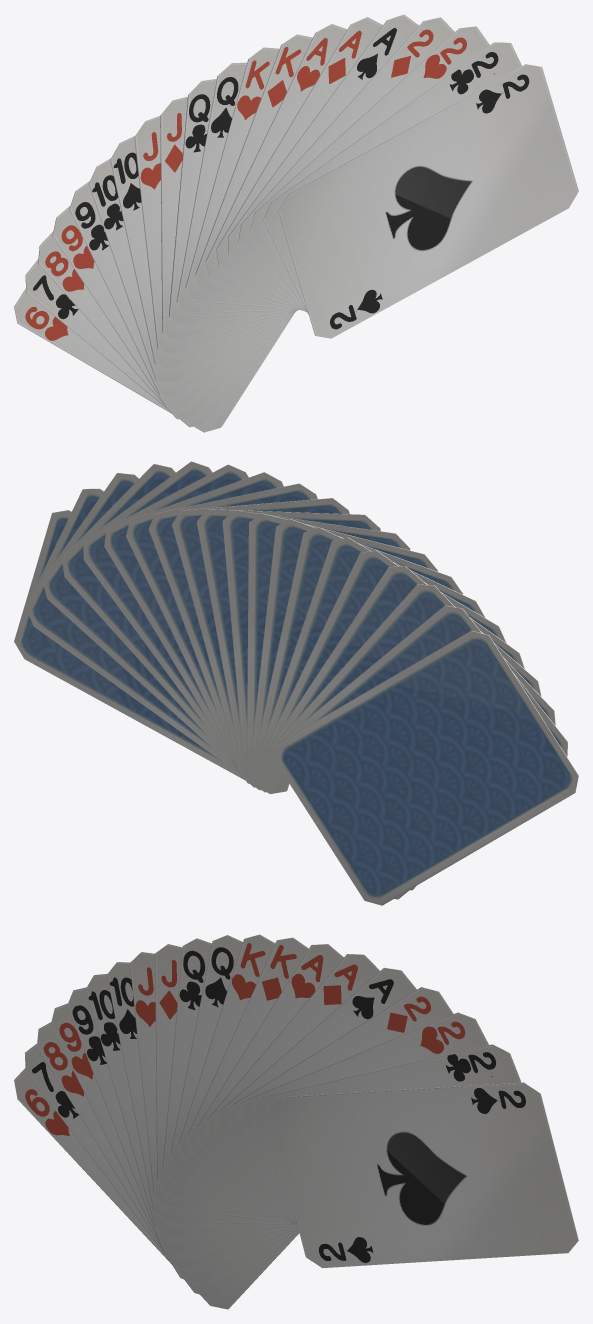
File: pai.FBX
The picture shows the model from 3 angles, top to bottom: view 1: azimuth 30°, elevation 25°; view 2: azimuth 150°, elevation 25°; view 3: azimuth 330°, elevation 25°; orthographic projection. The views are drawn at different scales.
Visible parts, largest first — view 1: c_female_00_zhipai_020, c_female_00_zhipai_021, c_female_00_zhipai_022, c_female_00_zhipai_023, c_female_00_zhipai_024, c_female_00_zhipai_025, c_female_00_zhipai_026, c_female_00_zhipai_028, c_female_00_zhipai_027, c_female_00_zhipai_031, c_female_00_zhipai_030, c_female_00_zhipai_029 (+8 smaller); view 2: c_female_00_zhipai_039, c_female_00_zhipai_020, c_female_00_zhipai_021, c_female_00_zhipai_022, c_female_00_zhipai_023, c_female_00_zhipai_024, c_female_00_zhipai_028, c_female_00_zhipai_026, c_female_00_zhipai_025, c_female_00_zhipai_029, c_female_00_zhipai_027, c_female_00_zhipai_030 (+8 smaller); view 3: c_female_00_zhipai_020, c_female_00_zhipai_021, c_female_00_zhipai_022, c_female_00_zhipai_023, c_female_00_zhipai_024, c_female_00_zhipai_025, c_female_00_zhipai_026, c_female_00_zhipai_027, c_female_00_zhipai_029, c_female_00_zhipai_030, c_female_00_zhipai_031, c_female_00_zhipai_028 (+8 smaller).
Part boxes in pixels (x1=…): c_female_00_zhipai_020: x1=278, y1=64, x2=578, y2=338; c_female_00_zhipai_021: x1=263, y1=42, x2=521, y2=314; c_female_00_zhipai_022: x1=250, y1=26, x2=489, y2=312; c_female_00_zhipai_023: x1=238, y1=17, x2=454, y2=311; c_female_00_zhipai_024: x1=228, y1=14, x2=418, y2=311; c_female_00_zhipai_025: x1=216, y1=17, x2=382, y2=311; c_female_00_zhipai_026: x1=205, y1=24, x2=347, y2=310; c_female_00_zhipai_028: x1=185, y1=47, x2=296, y2=309; c_female_00_zhipai_027: x1=195, y1=34, x2=312, y2=310; c_female_00_zhipai_031: x1=160, y1=96, x2=297, y2=341; c_female_00_zhipai_030: x1=169, y1=78, x2=298, y2=327; c_female_00_zhipai_029: x1=176, y1=62, x2=298, y2=313; c_female_00_zhipai_039: x1=275, y1=630, x2=578, y2=905; c_female_00_zhipai_020: x1=14, y1=510, x2=289, y2=793; c_female_00_zhipai_021: x1=25, y1=488, x2=287, y2=792; c_female_00_zhipai_022: x1=42, y1=472, x2=285, y2=791; c_female_00_zhipai_023: x1=61, y1=463, x2=284, y2=790; c_female_00_zhipai_024: x1=83, y1=461, x2=283, y2=789; c_female_00_zhipai_028: x1=172, y1=498, x2=349, y2=772; c_female_00_zhipai_026: x1=126, y1=472, x2=283, y2=782; c_female_00_zhipai_025: x1=104, y1=464, x2=282, y2=786; c_female_00_zhipai_029: x1=196, y1=509, x2=380, y2=769; c_female_00_zhipai_027: x1=148, y1=483, x2=317, y2=777; c_female_00_zhipai_030: x1=222, y1=510, x2=410, y2=768; c_female_00_zhipai_020: x1=267, y1=1082, x2=578, y2=1267; c_female_00_zhipai_021: x1=254, y1=1044, x2=521, y2=1220; c_female_00_zhipai_022: x1=241, y1=1012, x2=489, y2=1222; c_female_00_zhipai_023: x1=229, y1=987, x2=453, y2=1224; c_female_00_zhipai_024: x1=219, y1=967, x2=417, y2=1225; c_female_00_zhipai_025: x1=208, y1=954, x2=380, y2=1224; c_female_00_zhipai_026: x1=197, y1=944, x2=344, y2=1223; c_female_00_zhipai_027: x1=188, y1=937, x2=308, y2=1223; c_female_00_zhipai_029: x1=170, y1=935, x2=292, y2=1222; c_female_00_zhipai_030: x1=163, y1=938, x2=293, y2=1222; c_female_00_zhipai_031: x1=155, y1=944, x2=294, y2=1223; c_female_00_zhipai_028: x1=179, y1=934, x2=288, y2=1219.
Size of the model in its own units: 17.72 by 0.602 by 11.72.
Materials: 1 (1 with a texture image).
